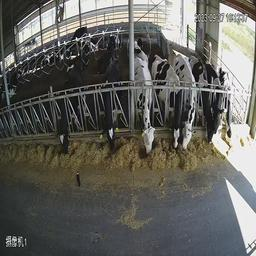cow: (152, 58, 184, 160), (53, 57, 85, 157), (132, 52, 157, 168), (99, 51, 126, 156), (190, 50, 213, 154), (175, 55, 197, 154), (203, 56, 225, 149), (217, 62, 238, 149)
